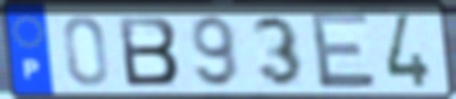0: (61, 13, 111, 89)
3: (250, 14, 306, 88)
4: (383, 10, 435, 91)
9: (188, 12, 241, 89)
B: (115, 14, 182, 88)
E: (307, 10, 380, 92)
